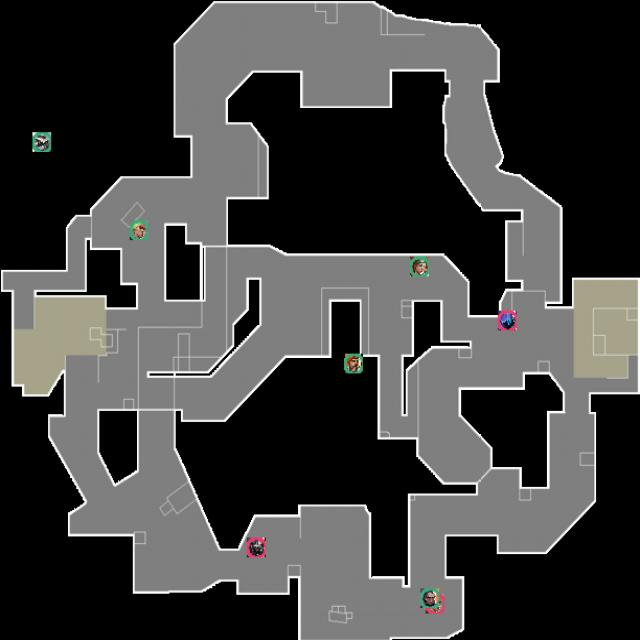atk_gekko: (426, 594, 444, 614)
atk_omen: (498, 310, 516, 330)
atk_viper: (247, 538, 266, 558)
def_brimstone: (344, 354, 363, 374)
def_cypher: (32, 132, 52, 152)
def_gekko: (130, 220, 148, 240)
def_reyna: (420, 588, 440, 608)
def_skye: (410, 256, 429, 276)
